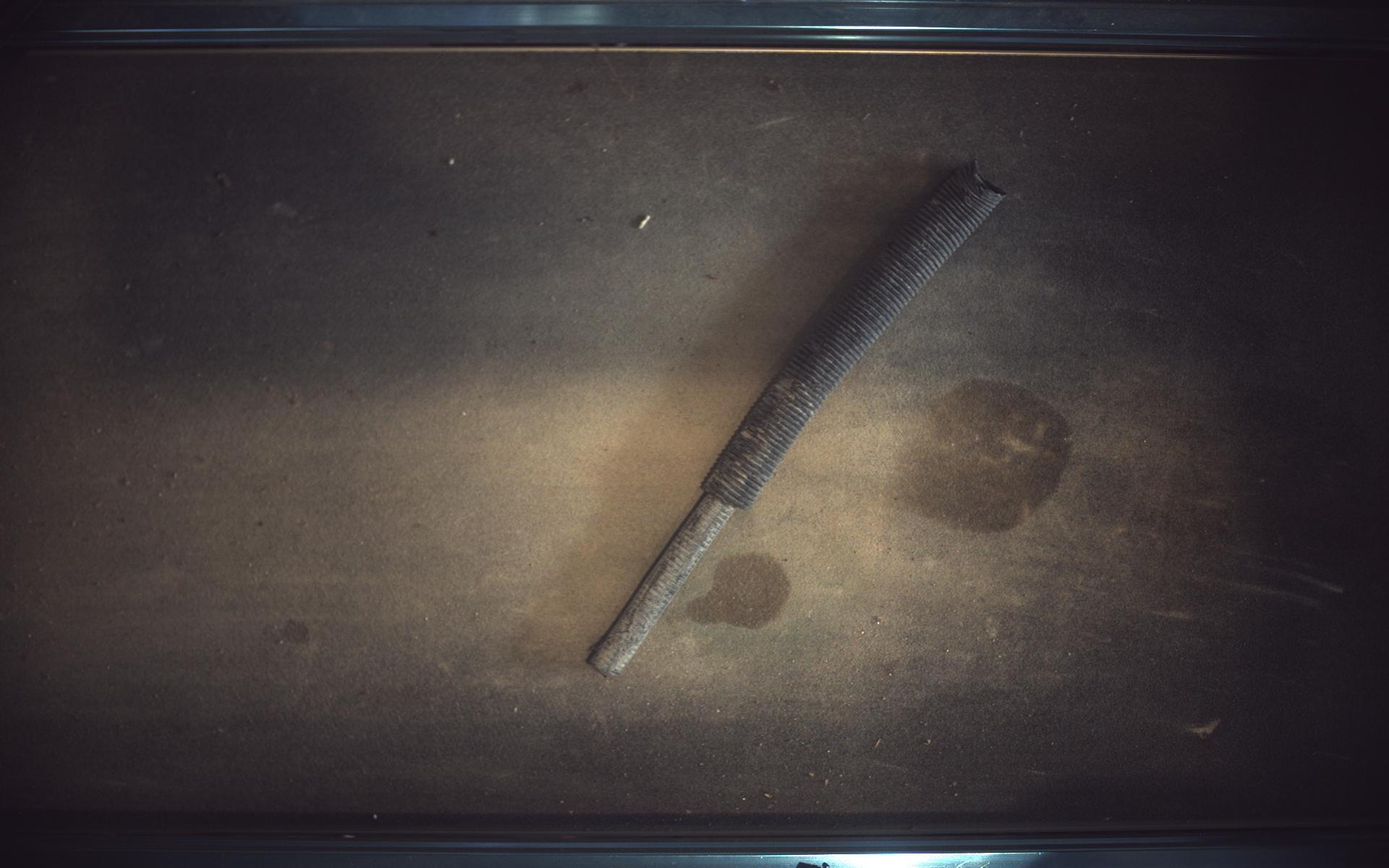pipes: (588, 161, 1006, 678)
